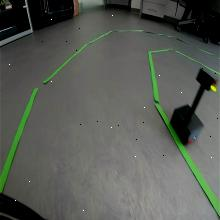green: (196, 68, 219, 92)
